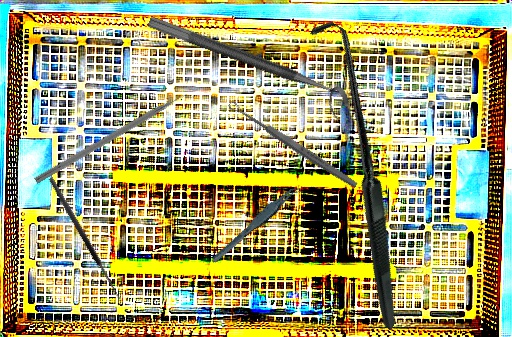Chopper: (33, 86, 201, 193)
Fixation Ring: (140, 14, 355, 122)
Hook Surgical: (200, 15, 512, 331), (47, 173, 129, 302)
Surgical Spoon: (226, 99, 360, 190)
Tissue Forceps: (203, 182, 311, 265)
